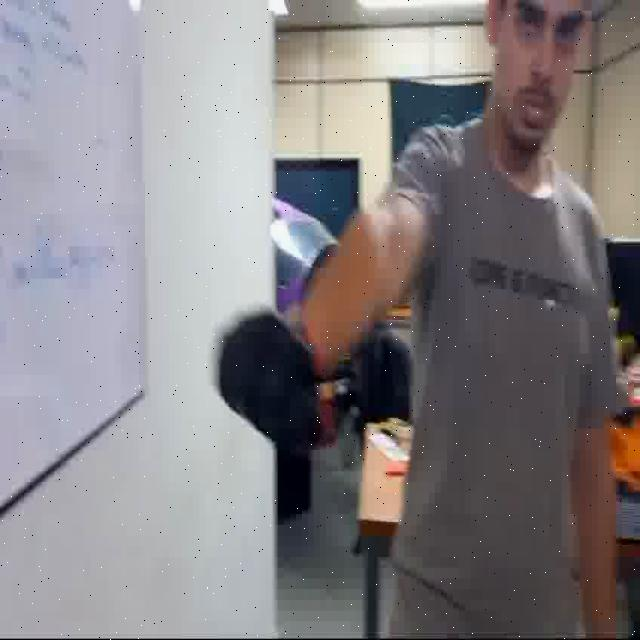Gloves: (218, 311, 335, 452)
